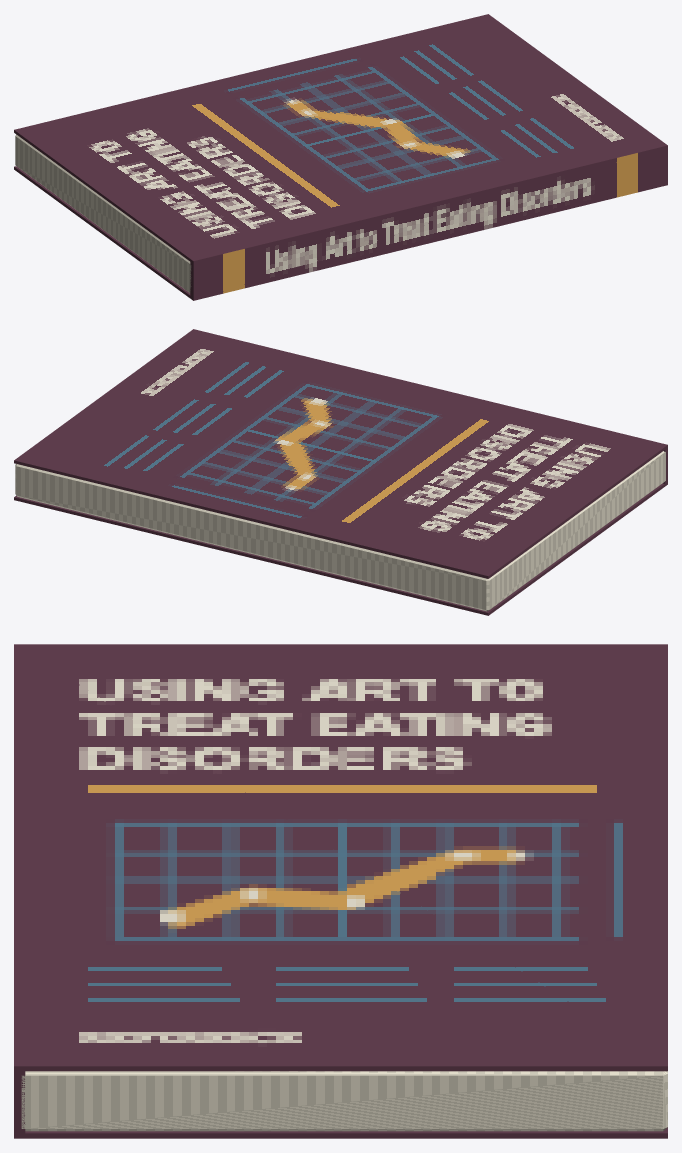
File: book_nonf_soft_psych_arteatds.glb
3 renders of one model, top to bottom at view 1: azimuth 30°, elevation 25°; view 2: azimuth 150°, elevation 25°; view 3: azimuth 270°, elevation 25°, orthographic. The views are drawn at different scales.
Parts seen in each view (by area): view 1: block_front, block_spine, block_pages, block_back; view 2: block_front, block_pages, block_back, block_spine; view 3: block_front, block_pages, block_back, block_spine.
Part boxes in pixels (<box>): block_front: <box>14,14,666,262</box>; block_spine: <box>190,143,667,300</box>; block_pages: <box>15,134,191,292</box>; block_back: <box>14,166,192,299</box>; block_front: <box>14,329,667,578</box>; block_pages: <box>15,451,665,611</box>; block_back: <box>14,483,667,615</box>; block_spine: <box>191,329,667,486</box>; block_front: <box>17,644,667,1071</box>; block_pages: <box>21,1071,667,1131</box>; block_back: <box>17,1127,667,1138</box>; block_spine: <box>14,644,25,1138</box>.
Size of the model in its own units: 0.1861 by 0.0149 by 0.122.
Materials: 1 (1 with a texture image).
